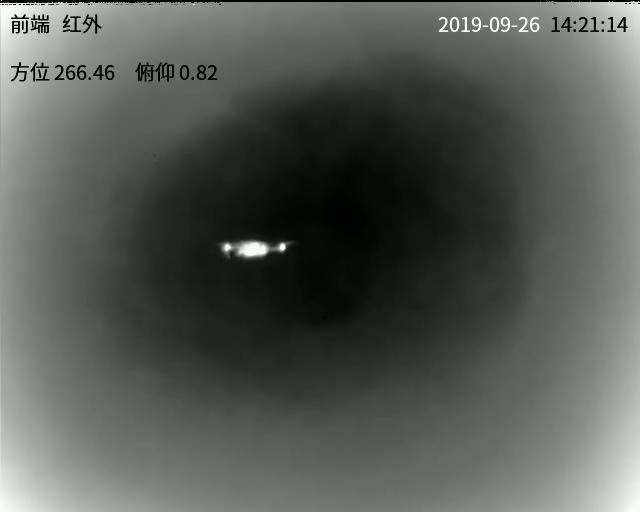uav: (218, 238, 294, 261)
